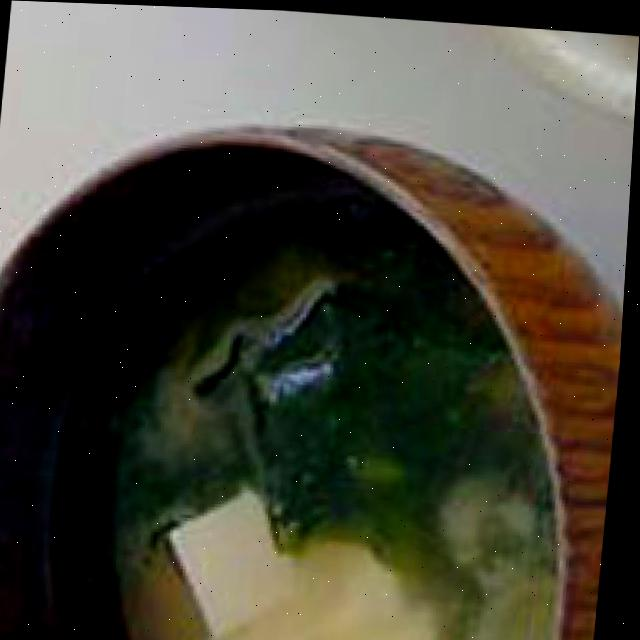汤锅炖物: (0, 85, 636, 640)
